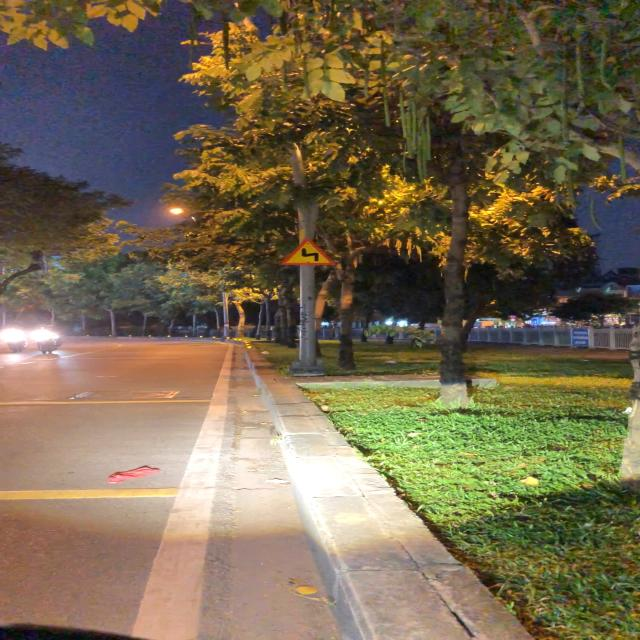Bien bao nhieu cho ngoat nguy hiem lien tiep: (274, 236, 338, 266)
